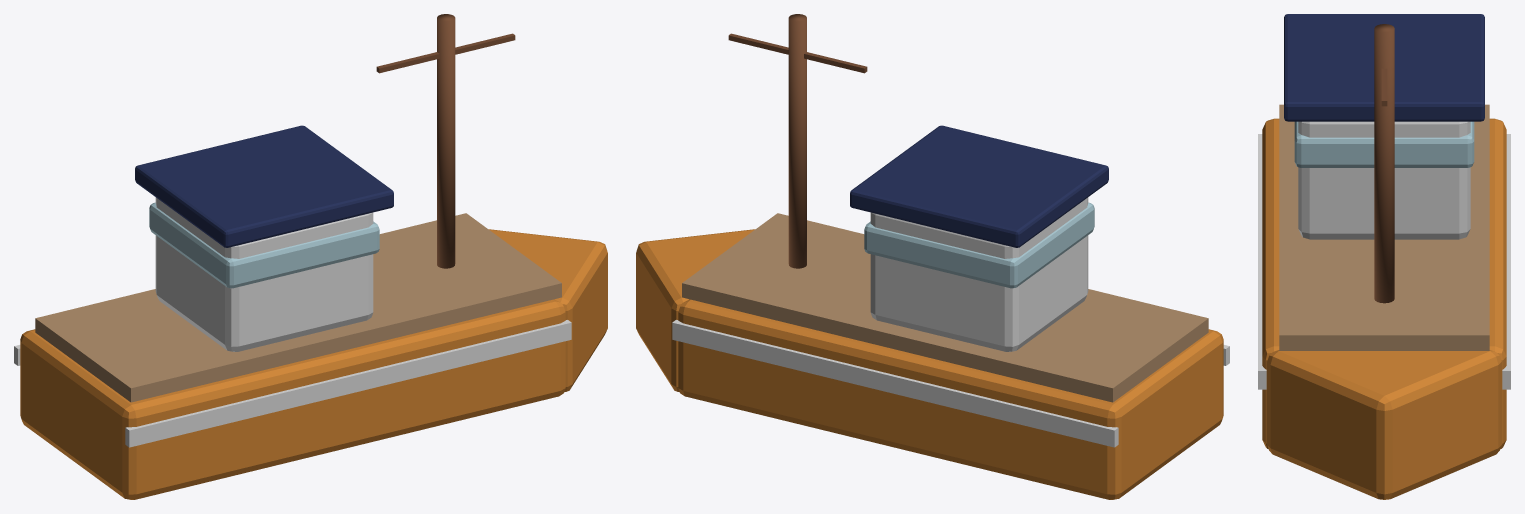
The model's file is boat_fish.glb.
3 views of the same model, side by side, from view 1: azimuth 30°, elevation 25°; view 2: azimuth 150°, elevation 25°; view 3: azimuth 270°, elevation 25° (orthographic). The views are drawn at different scales.
Parts seen in each view (by area): view 1: boat_fish; view 2: boat_fish; view 3: boat_fish.
Part boxes in pixels (x1,y1,x2,y2): boat_fish: (14, 14, 607, 499); boat_fish: (636, 14, 1229, 499); boat_fish: (1258, 14, 1510, 499).
Bounding box in the file's own units: 0.4717 × 0.3 × 0.176.
